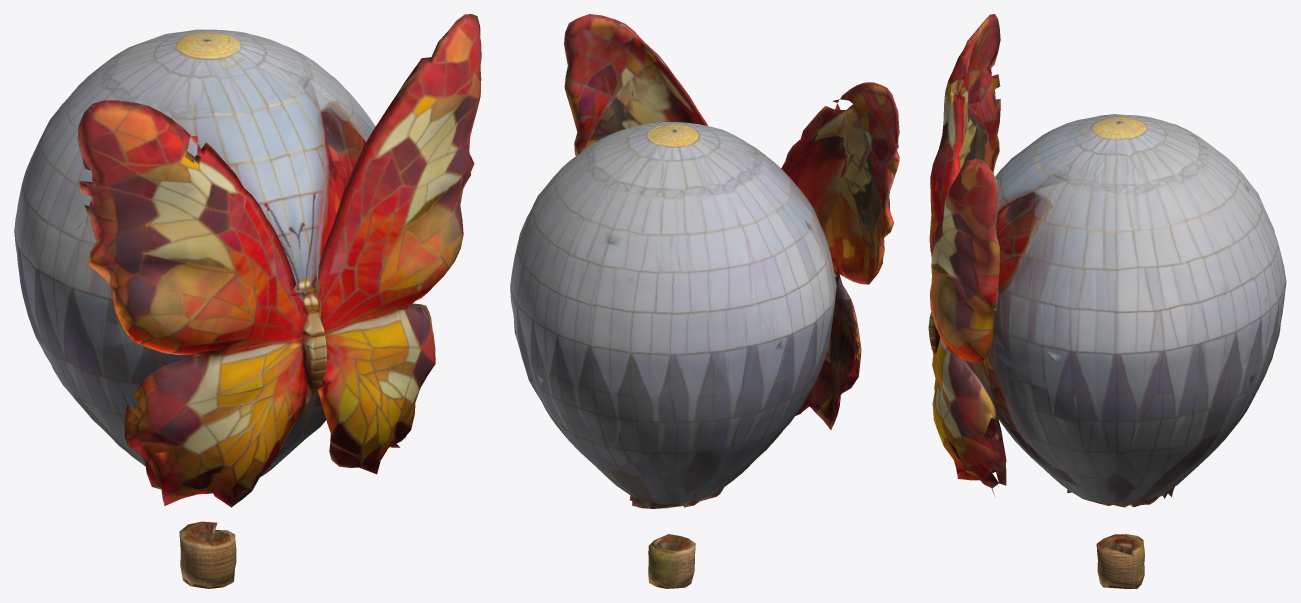
The model's file is Fluttering_Ascent_0409062336_texture.glb.
3 renders of one model, left to right at view 1: azimuth 30°, elevation 25°; view 2: azimuth 150°, elevation 25°; view 3: azimuth 270°, elevation 25°, orthographic. The views are drawn at different scales.
Size of the model in its own units: 1.45 by 1.99 by 1.31.
Materials: 1 (1 with a texture image).
